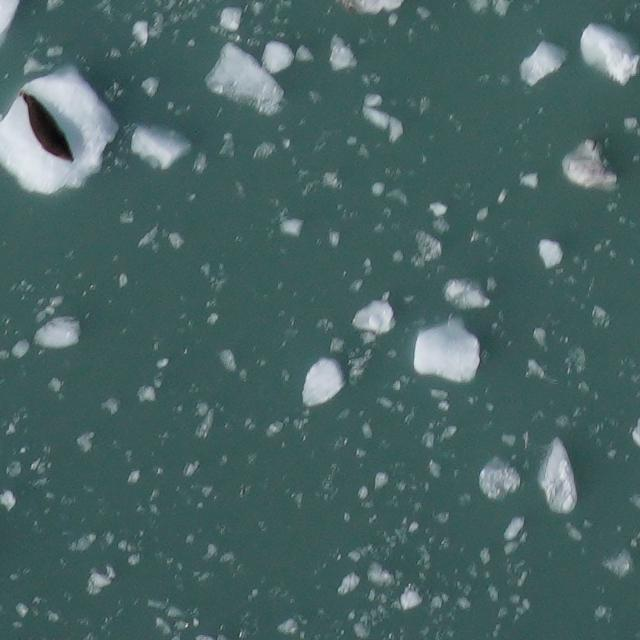seal: (16, 85, 79, 166)
